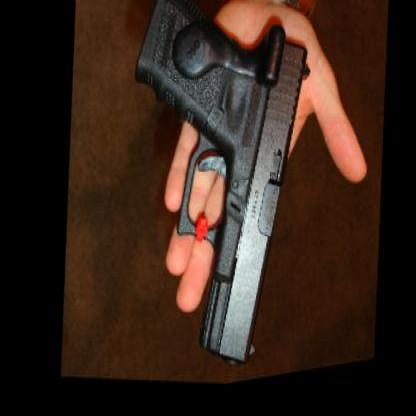pistol: (87, 0, 338, 404)
